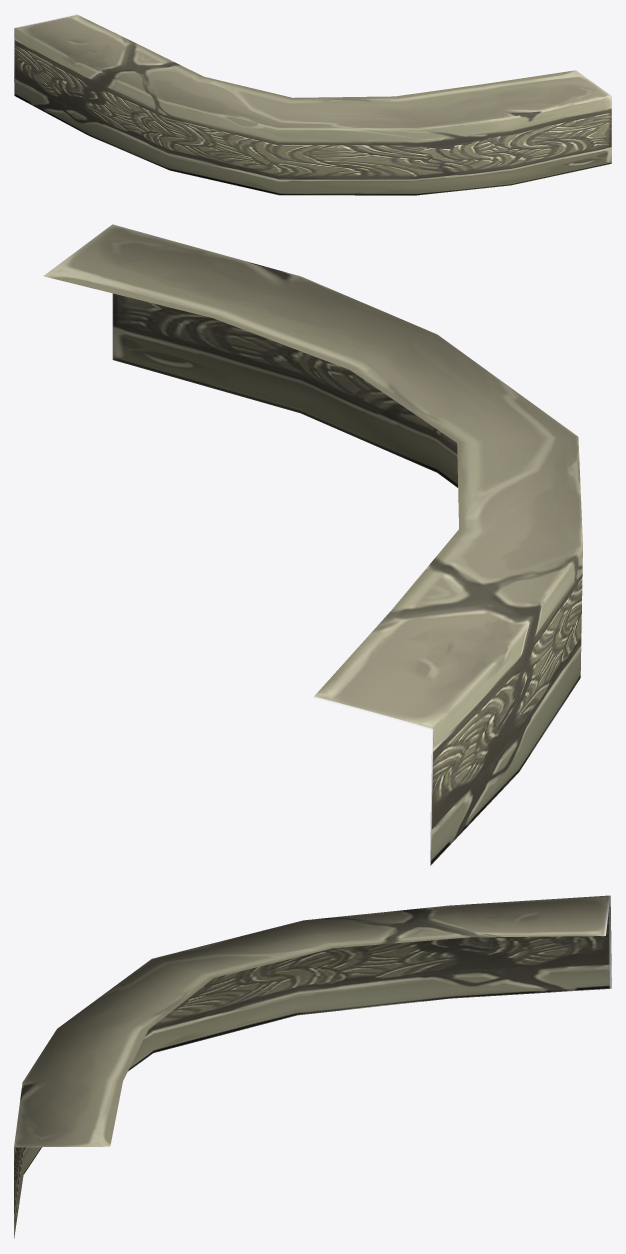
File: wall_convex1_base.fbx
3 renders of one model, top to bottom at view 1: azimuth 30°, elevation 25°; view 2: azimuth 150°, elevation 25°; view 3: azimuth 270°, elevation 25°, orthographic. The views are drawn at different scales.
Parts seen in each view (by area): view 1: convex1_v_base; view 2: convex1_v_base; view 3: convex1_v_base.
Boxes of the visible parts, x1,y1,x2,y2 form: convex1_v_base: [14, 14, 611, 195]; convex1_v_base: [43, 224, 582, 865]; convex1_v_base: [14, 895, 611, 1238].
Bounding box in the file's own units: 2.39 × 0.4372 × 2.4.
